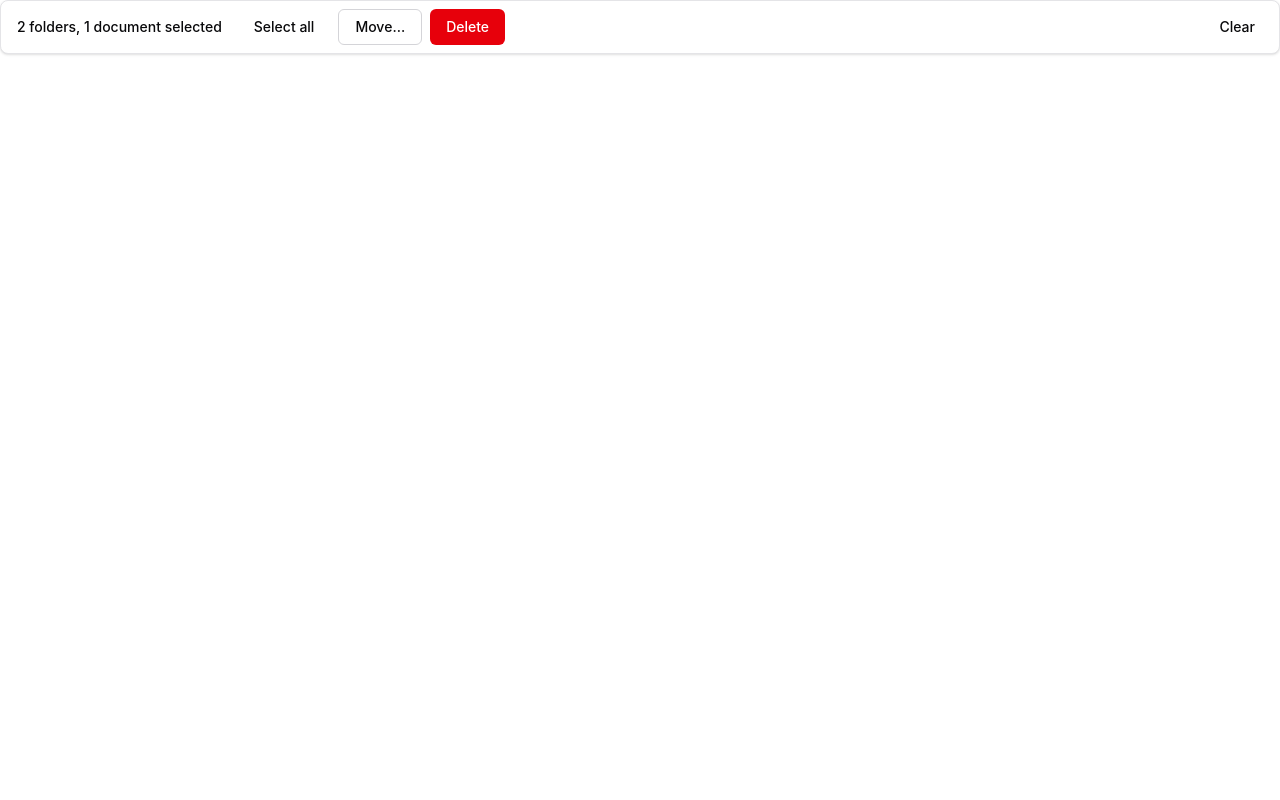
Test: labels a mixed selection and shows recursive delete totals
Expected: the text "2 folders, 1 document selected" is shown, [9, 17, 230, 37]
Click the button "Delete": (468, 27) [430, 9, 505, 45]
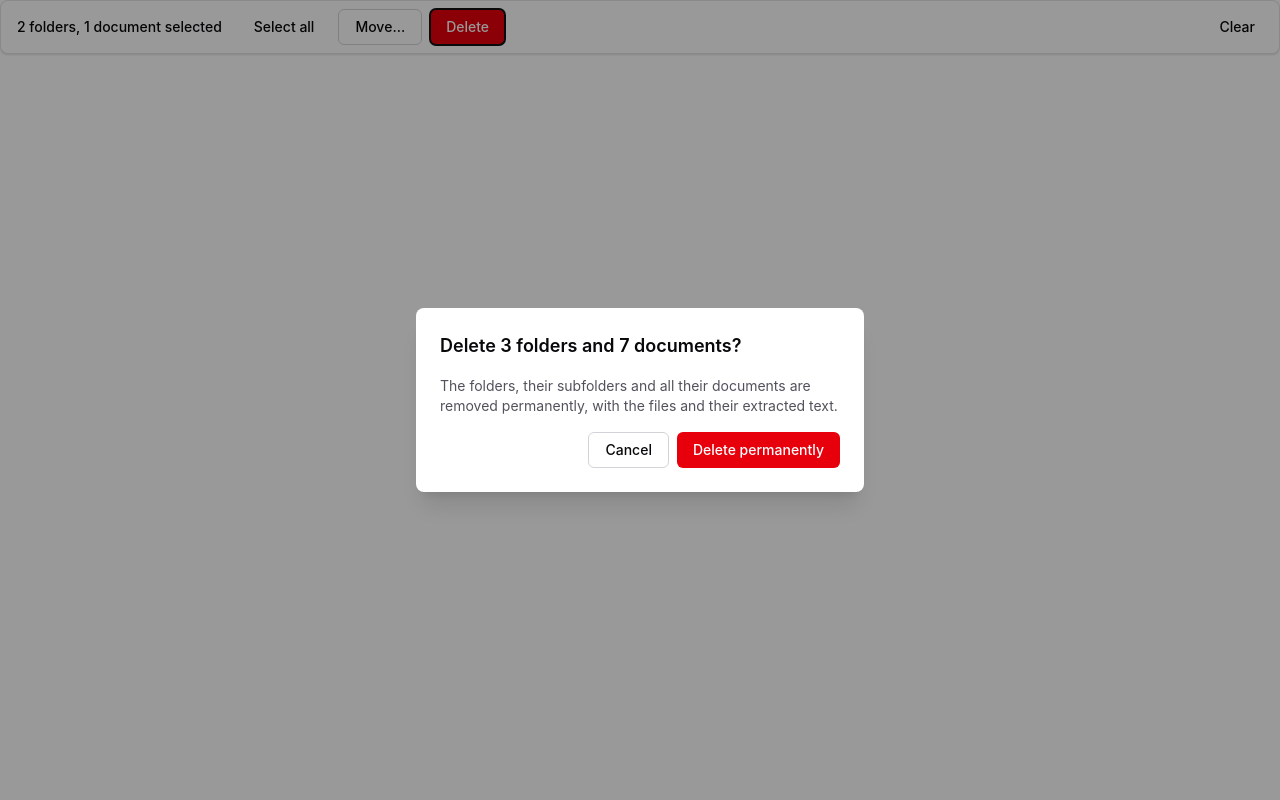
Expected: the dialog "Delete 3 folders and 7 documents?" is shown, [416, 308, 864, 492]
Expected: the text "subfolders and all their documents" is shown, [440, 377, 838, 414]
